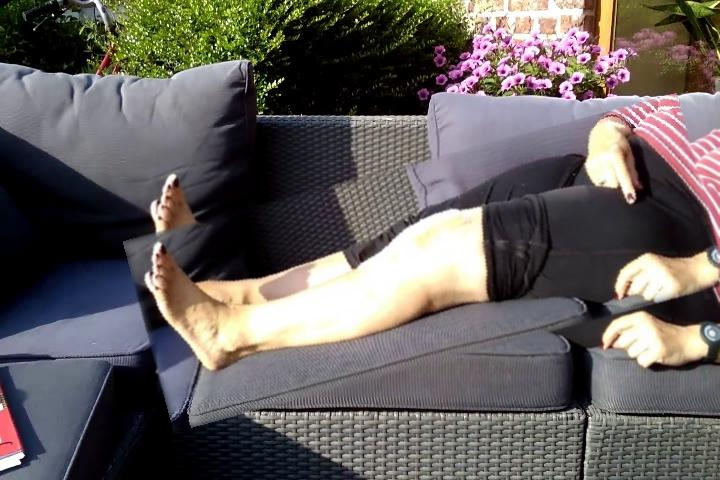lowerbody: (132, 129, 720, 398)
